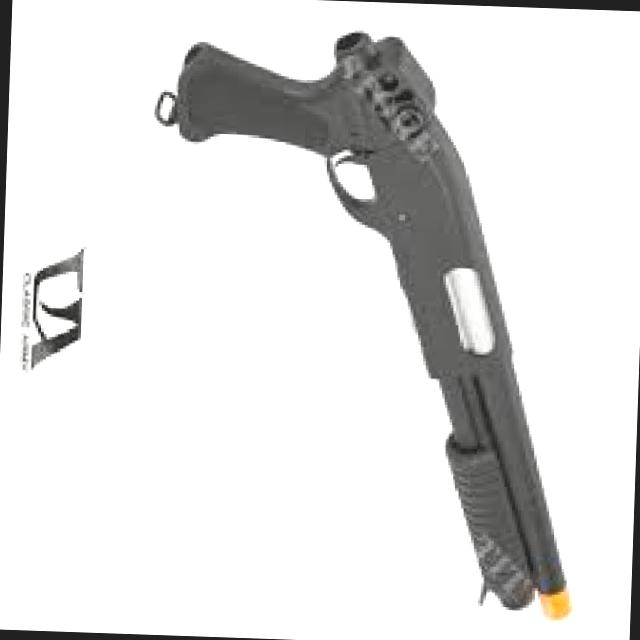long weapon: (171, 16, 592, 636)
